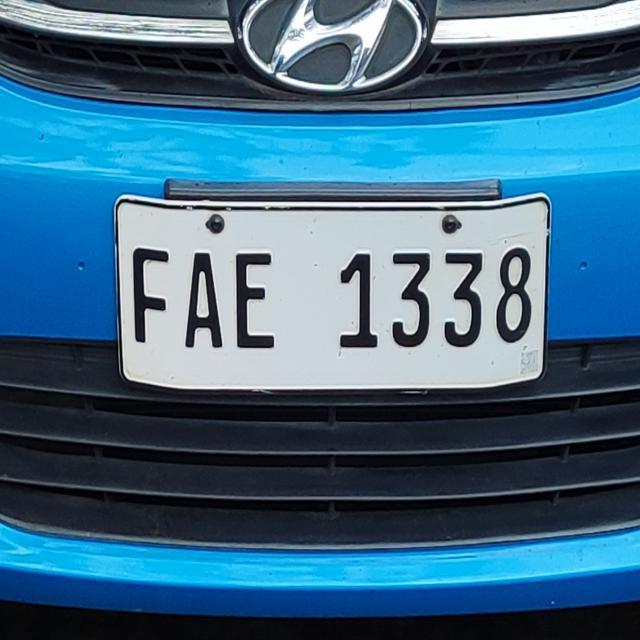LicensePlate: (108, 185, 565, 406)
